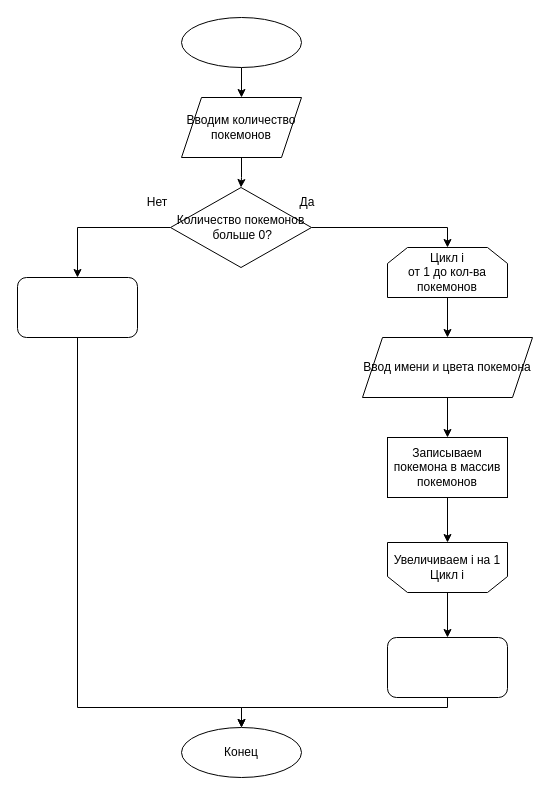
Image size: 550x795. Some labels were removed from this diagram. The centre of each missing label's shape, as x and y in pixels:
"Вывод всех покемонов" belongs at (447,667).
"Вывод того, что покемоны созданы не будут" belongs at (77,307).
"Начало" belongs at (241,42).
